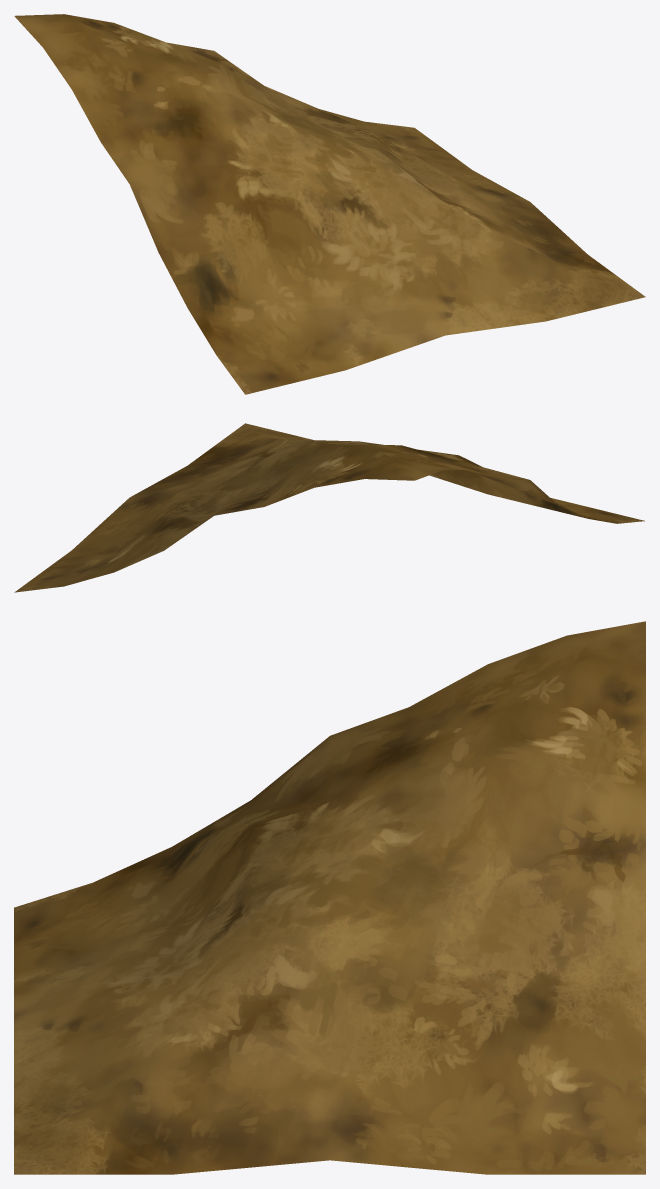
Rendered from Slope_Corner_004.fbx.
3 renders of one model, top to bottom at view 1: azimuth 30°, elevation 25°; view 2: azimuth 150°, elevation 25°; view 3: azimuth 270°, elevation 25°, orthographic. The views are drawn at different scales.
Visible parts, largest first — view 1: Slope_Corner_004; view 2: Slope_Corner_004; view 3: Slope_Corner_004.
Boxes of the visible parts, x1,y1,x2,y2 form: Slope_Corner_004: [14, 14, 645, 394]; Slope_Corner_004: [14, 423, 644, 592]; Slope_Corner_004: [14, 621, 645, 1174].
Size of the model in its own units: 10 by 5 by 10.
1 material, 1 textured.
